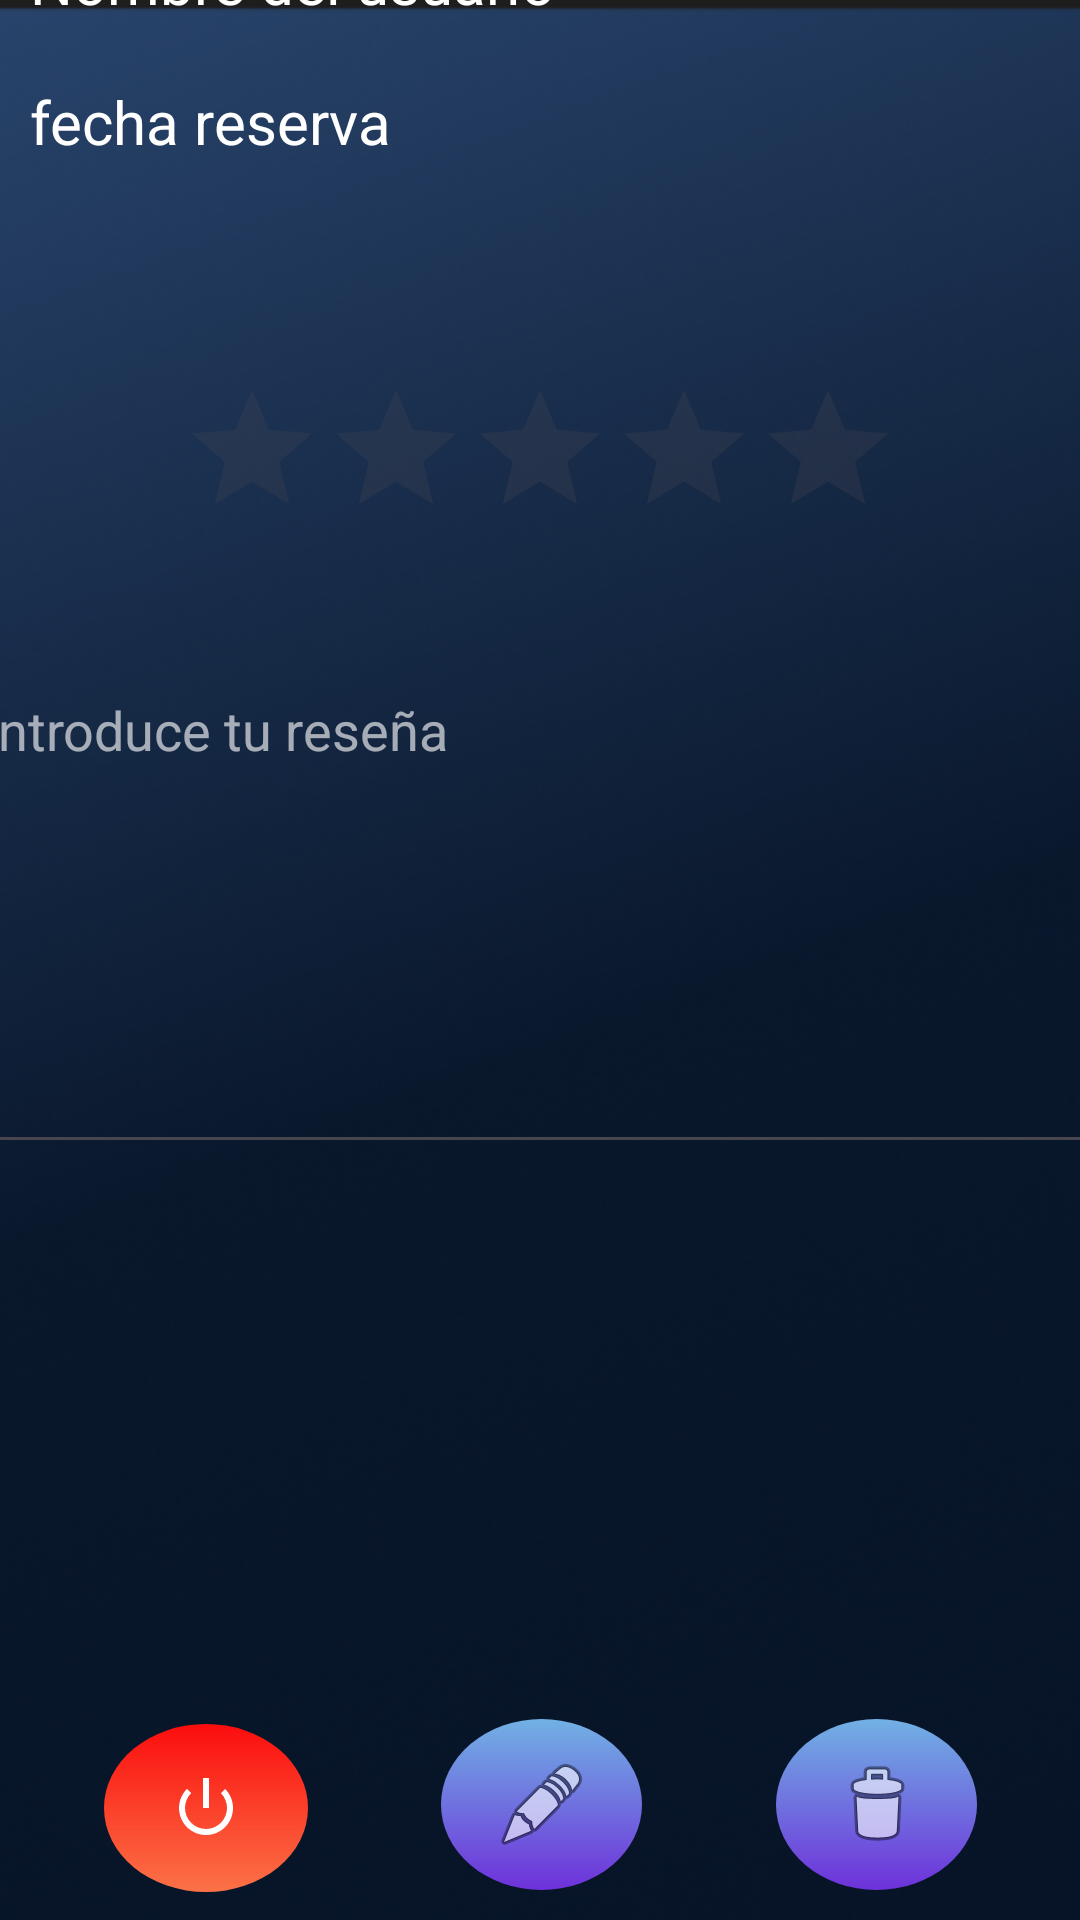

Icons on this 1080 × 1920 Android screen, each with its box as bbox=[x1, y1, x2, y2]:
Boton borrar: bbox=[776, 1719, 977, 1890]
Boton editar usuario: bbox=[441, 1719, 642, 1890]
lock power off: bbox=[104, 1724, 308, 1892]
